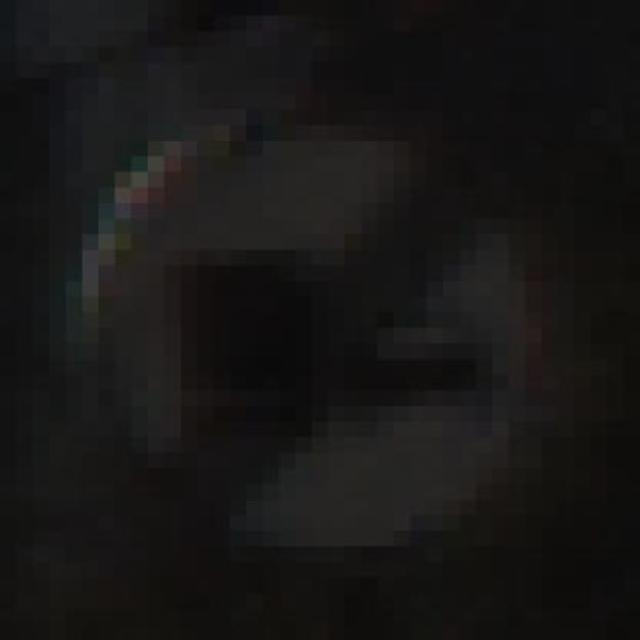Overtaking by trucks is prohibited: (49, 62, 591, 578)
